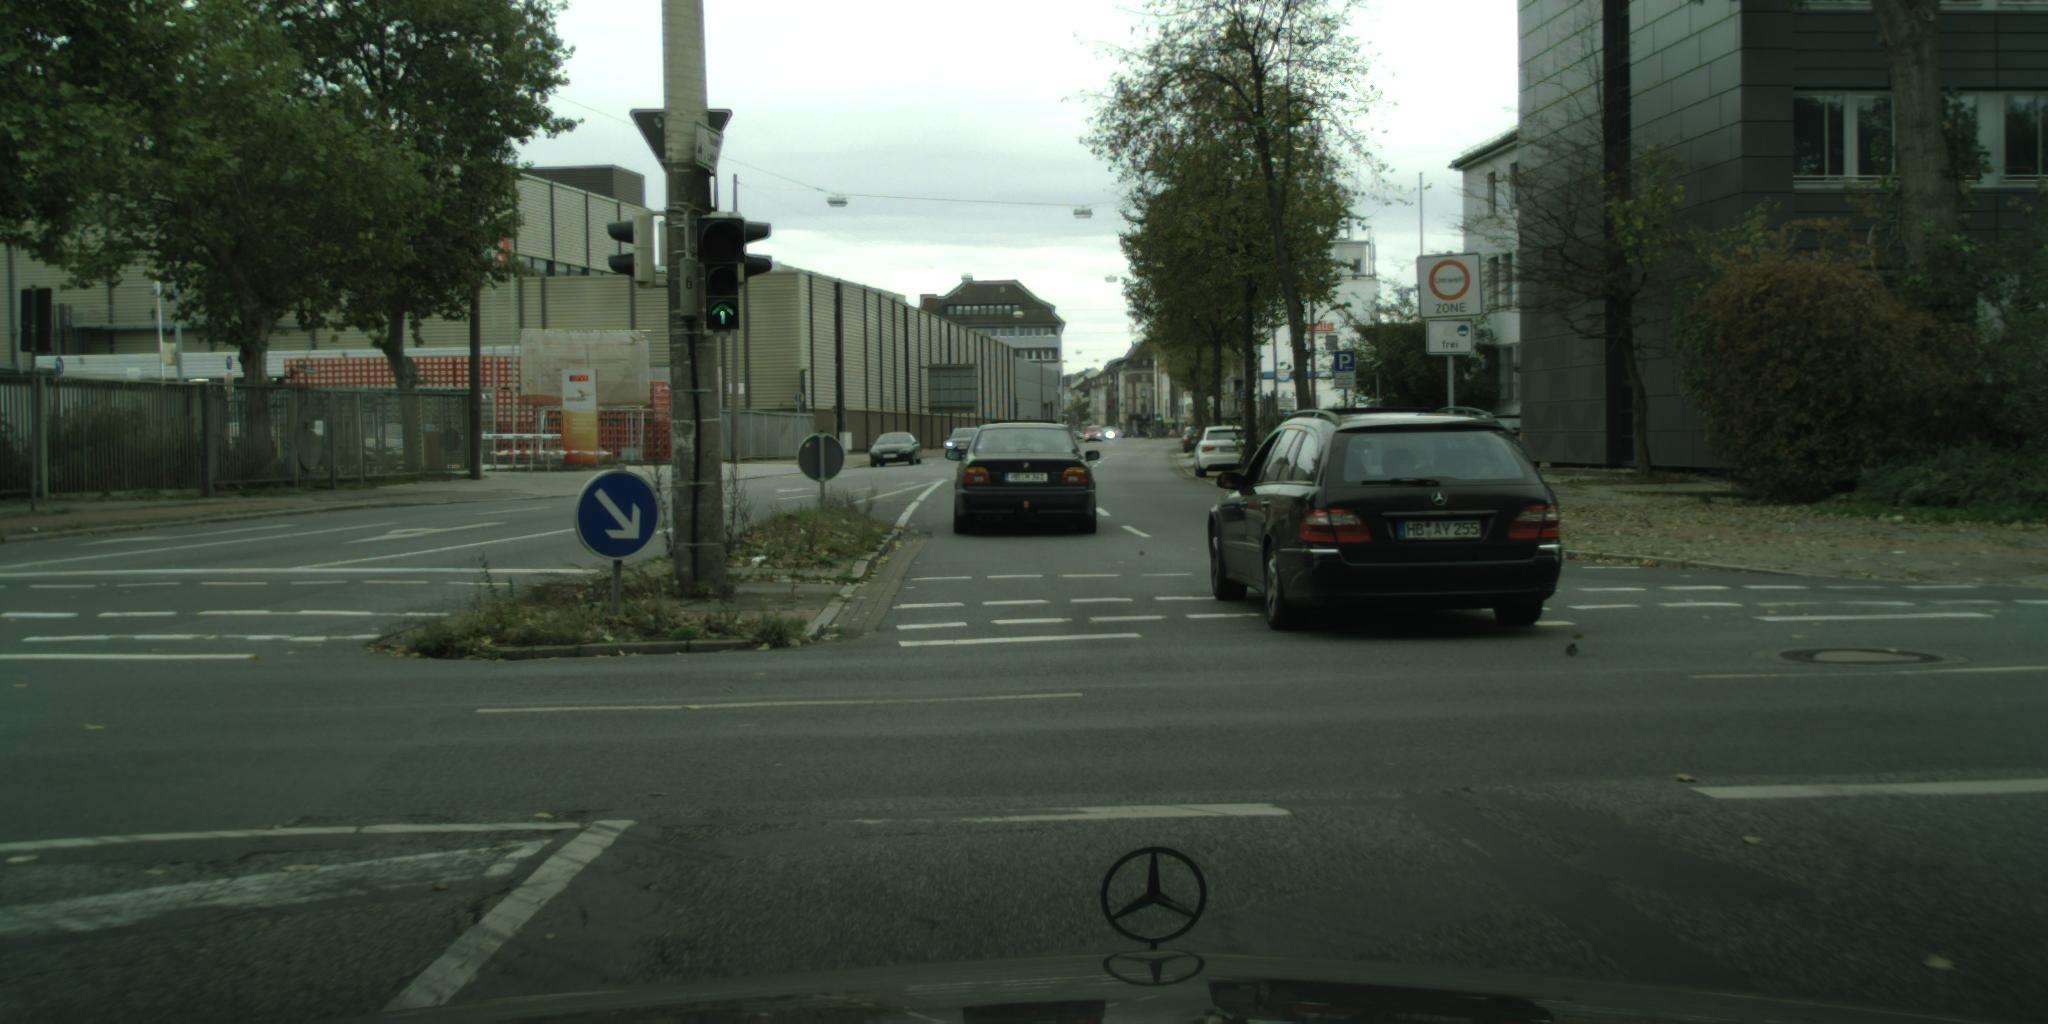car: (1208, 406, 1563, 636), (947, 421, 1102, 538), (1195, 426, 1247, 478), (870, 434, 923, 470), (947, 428, 986, 460), (1183, 426, 1204, 455)
